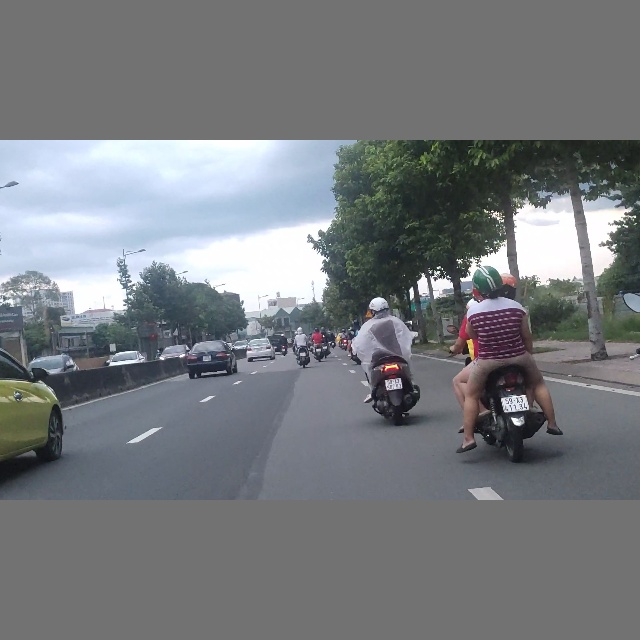W.201b: (364, 310, 373, 318)
